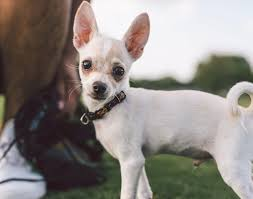Chihuahua: (55, 2, 253, 199)
